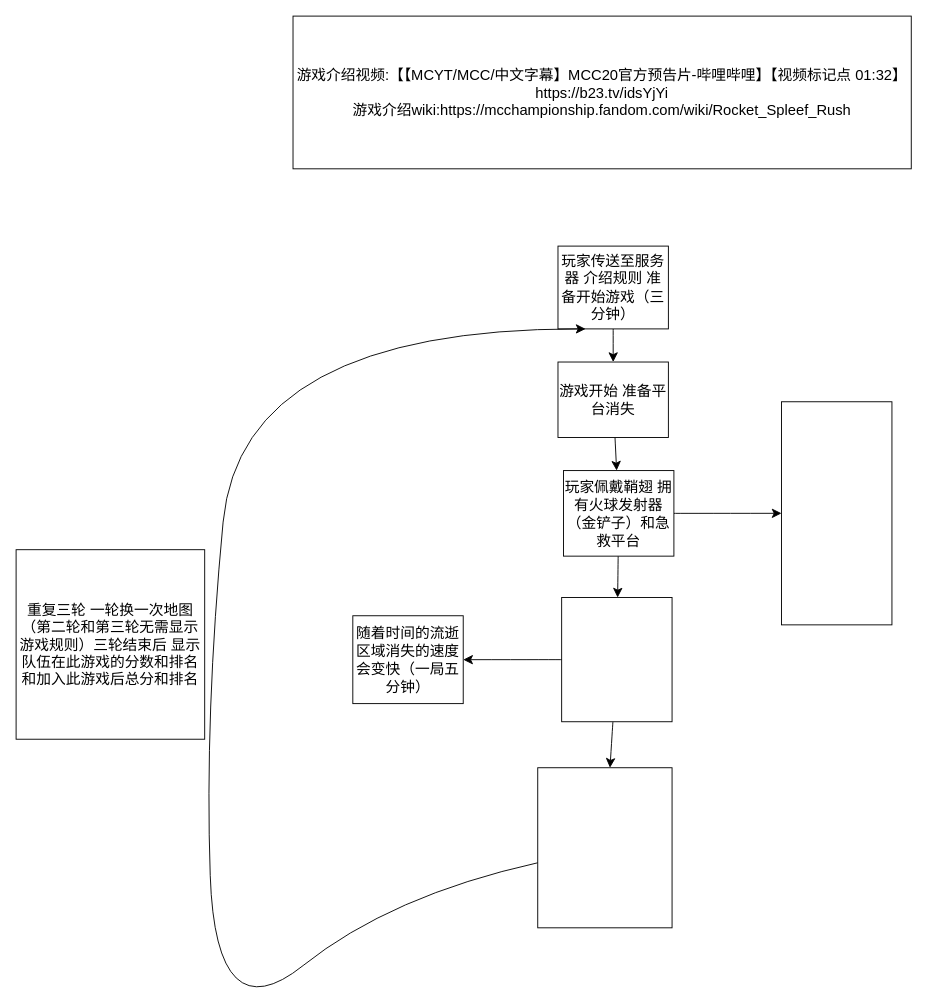
Some shapes in this 927 by 1004 pixel diagram are drawn without their labels. Here are the shapes that lost their labels. From the top down, the centre of each, then its label:
[836,513]: 火球发射器:能发射火球 能使自己起飞或史敌人收到攻击（所有玩家免疫火球伤害） 急救平台:在脚下生成一个五秒的急救平台 能使玩家通过急救平台起飞
[616,659]: 地图刚开始有一分钟时间 时间过后显示下一个地点并逐步消失第一个区域
[604,847]: 当剩余30秒时（此时已无区域可显示）存活到最后一个玩家即可获胜（最后一分钟禁止并回收急救平台的使用）
